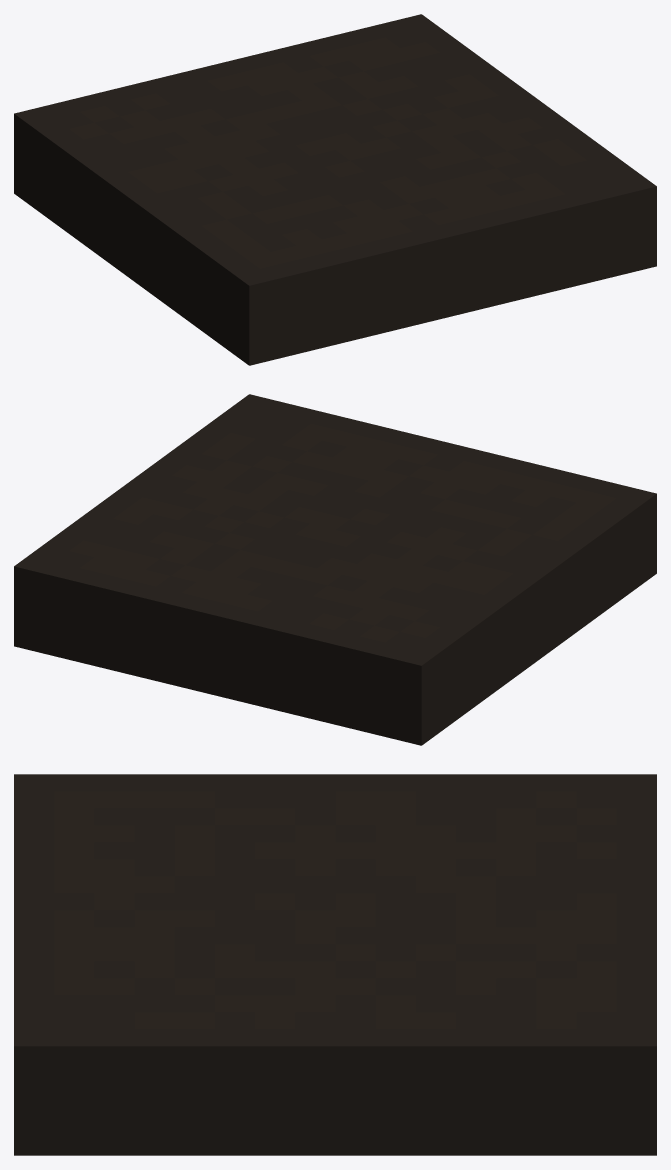
The model's file is tavern-69-floor_wood1.obj.
3 views of the same model, one above another, from view 1: azimuth 30°, elevation 25°; view 2: azimuth 150°, elevation 25°; view 3: azimuth 270°, elevation 25° (orthographic). The views are drawn at different scales.
Parts seen in each view (by area): view 1: floor_wood1; view 2: floor_wood1; view 3: floor_wood1.
Part boxes in pixels (x1,y1,x2,y2): floor_wood1: [14, 14, 656, 365]; floor_wood1: [14, 394, 656, 745]; floor_wood1: [14, 774, 656, 1155].
Bounding box in the file's own units: 1.6 × 0.3 × 1.6.
Materials: 1 (1 with a texture image).
